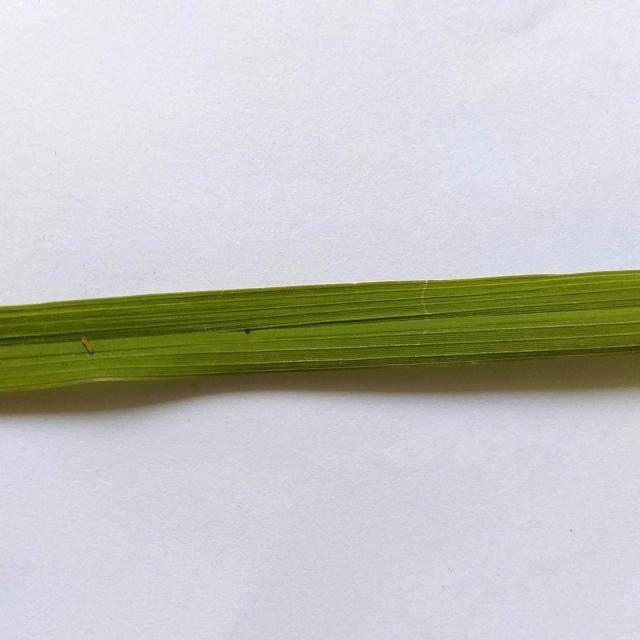healthy: (0, 190, 640, 416)
